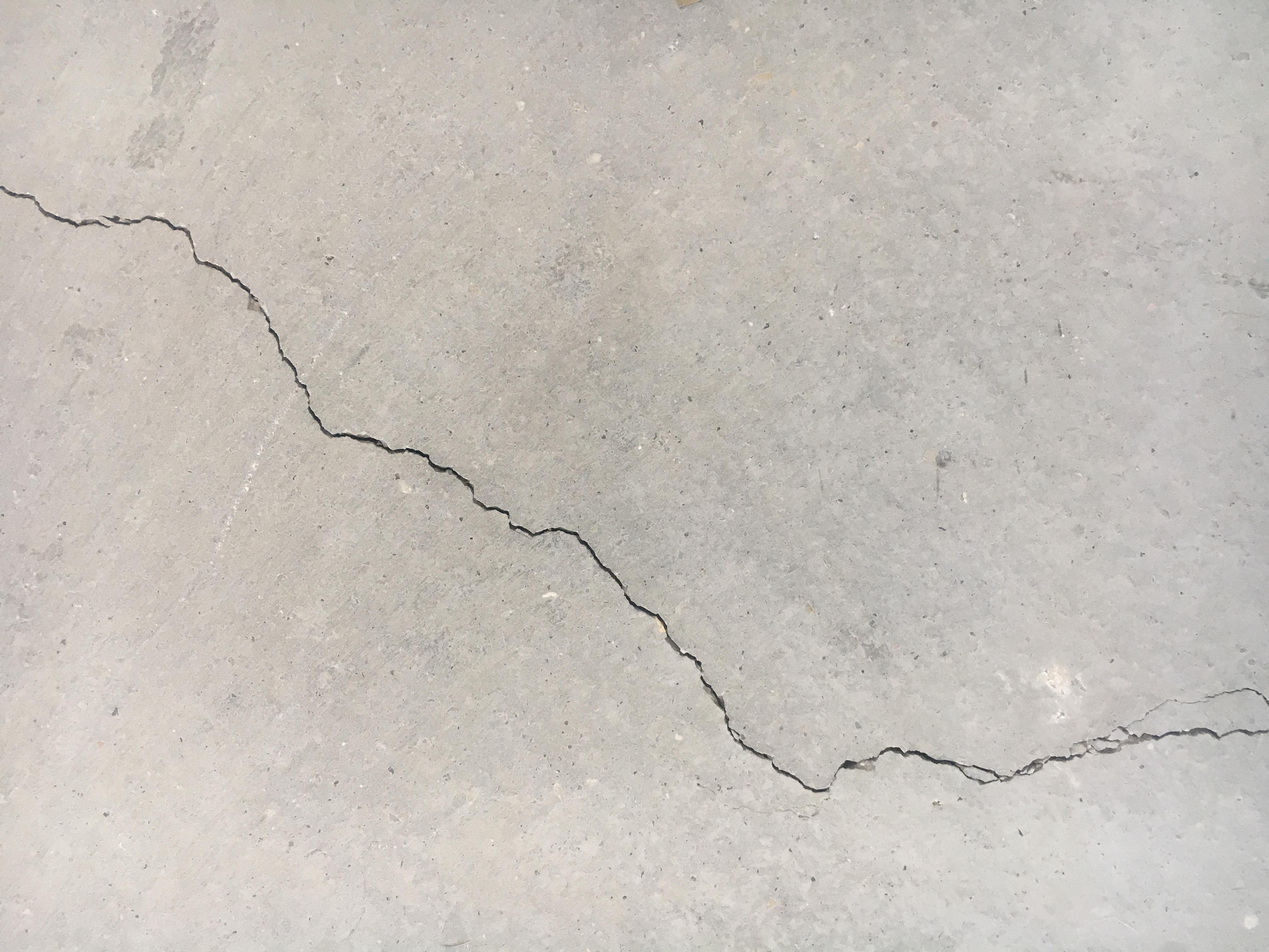Diagonal Crack: (3, 182, 1265, 797)
